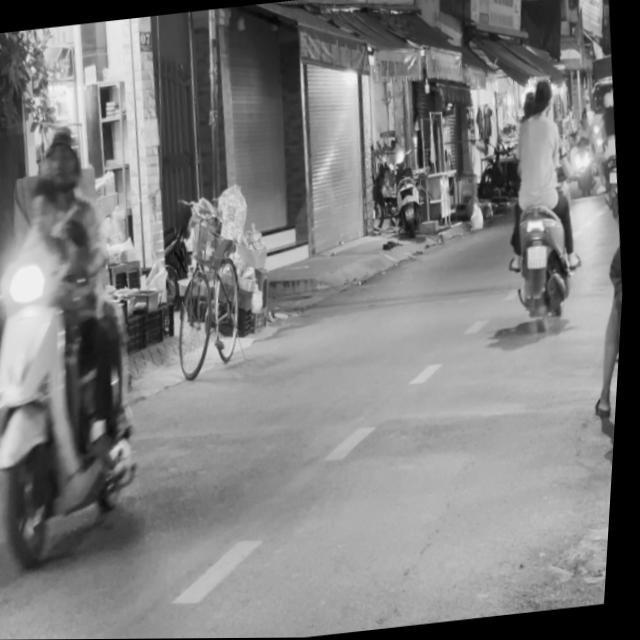helmet: (36, 123, 87, 201), (518, 80, 540, 117)
licenseplate: (0, 112, 170, 576), (557, 36, 638, 456), (486, 71, 595, 331)
motorcyclist: (25, 172, 67, 238), (528, 74, 554, 115)
nohelmet: (527, 243, 549, 268)
